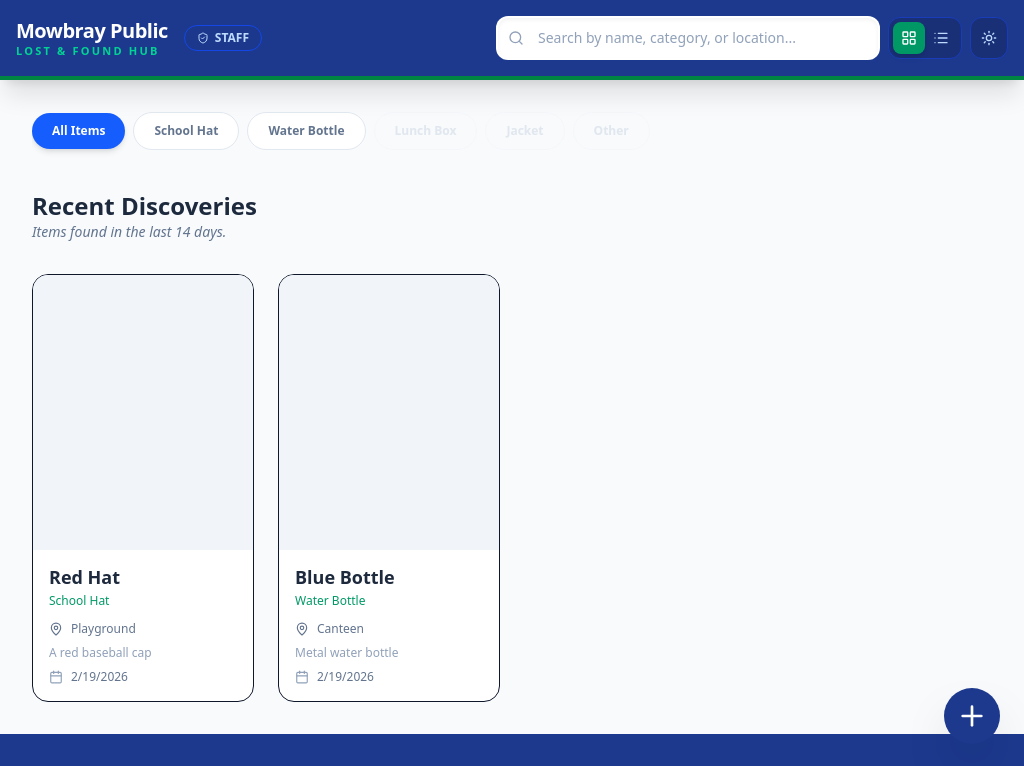
Test case: App Integration › filters items by search query
Check: the heading "Red Hat" is shown, box left=49, top=565, right=120, bottom=589
// Search for "Bottle"
Type "Bottle" into the field with placeholder "Search by name, category, or location...". click: (688, 38)
box: left=496, top=16, right=880, bottom=60
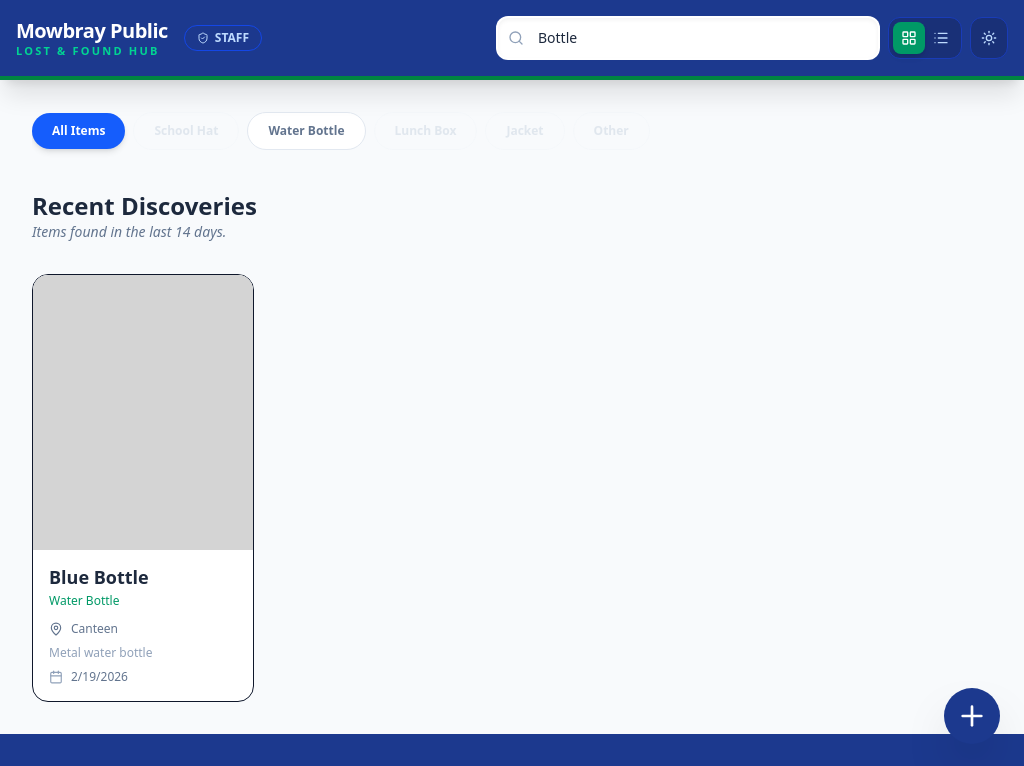
Check: the heading "Blue Bottle" is shown, box left=49, top=565, right=149, bottom=589
Check: the heading "Red Hat" is gone
